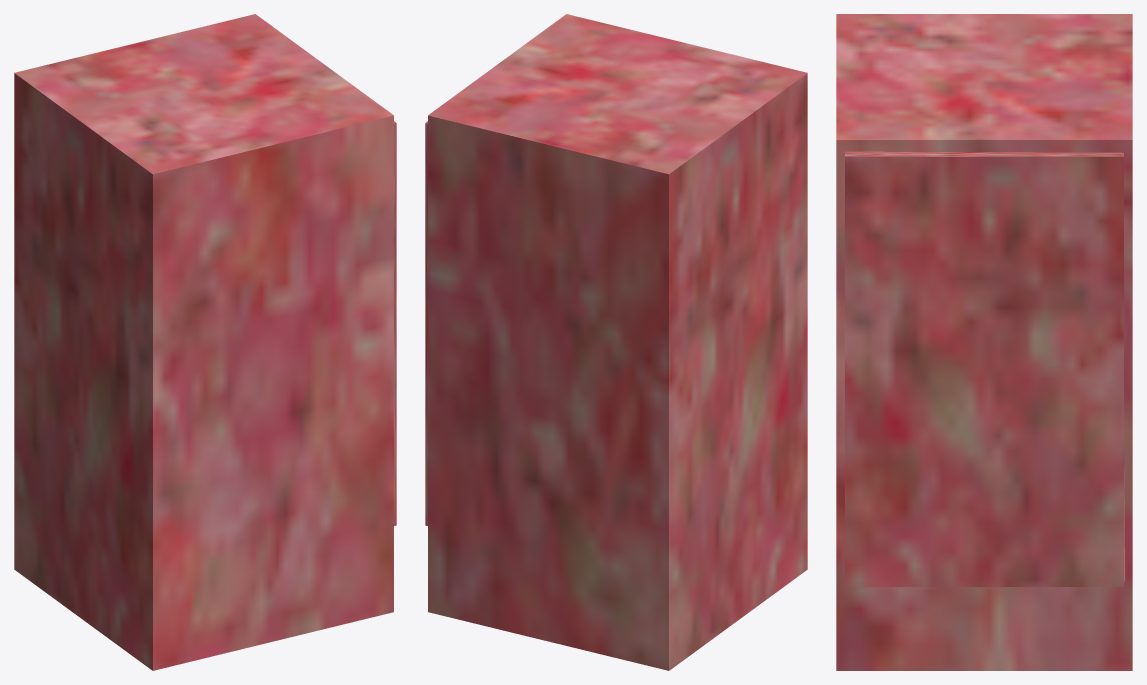
File: Refrigirator.fbx
3 views of the same model, side by side, from view 1: azimuth 30°, elevation 25°; view 2: azimuth 150°, elevation 25°; view 3: azimuth 270°, elevation 25° (orthographic). The views are drawn at different scales.
Visible parts, largest first — view 1: Cube, Cube.004; view 2: Cube, Cube.004; view 3: Cube.004, Cube.
Boxes of the visible parts, box(x1,y1,x2,y2) form: Cube: box(14, 14, 393, 670); Cube.004: box(394, 121, 396, 525); Cube: box(428, 14, 807, 670); Cube.004: box(425, 121, 427, 525); Cube.004: box(845, 151, 1123, 586); Cube: box(836, 14, 1132, 670).
Bounding box in the file's own units: 477 × 912 × 461.
4 materials, 2 textured.
